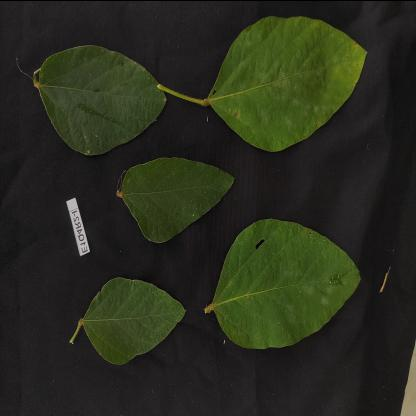label: (58, 189, 96, 257)
leaflets: (206, 3, 380, 165), (226, 210, 368, 358), (65, 272, 209, 404), (34, 41, 180, 153), (113, 148, 233, 239)
